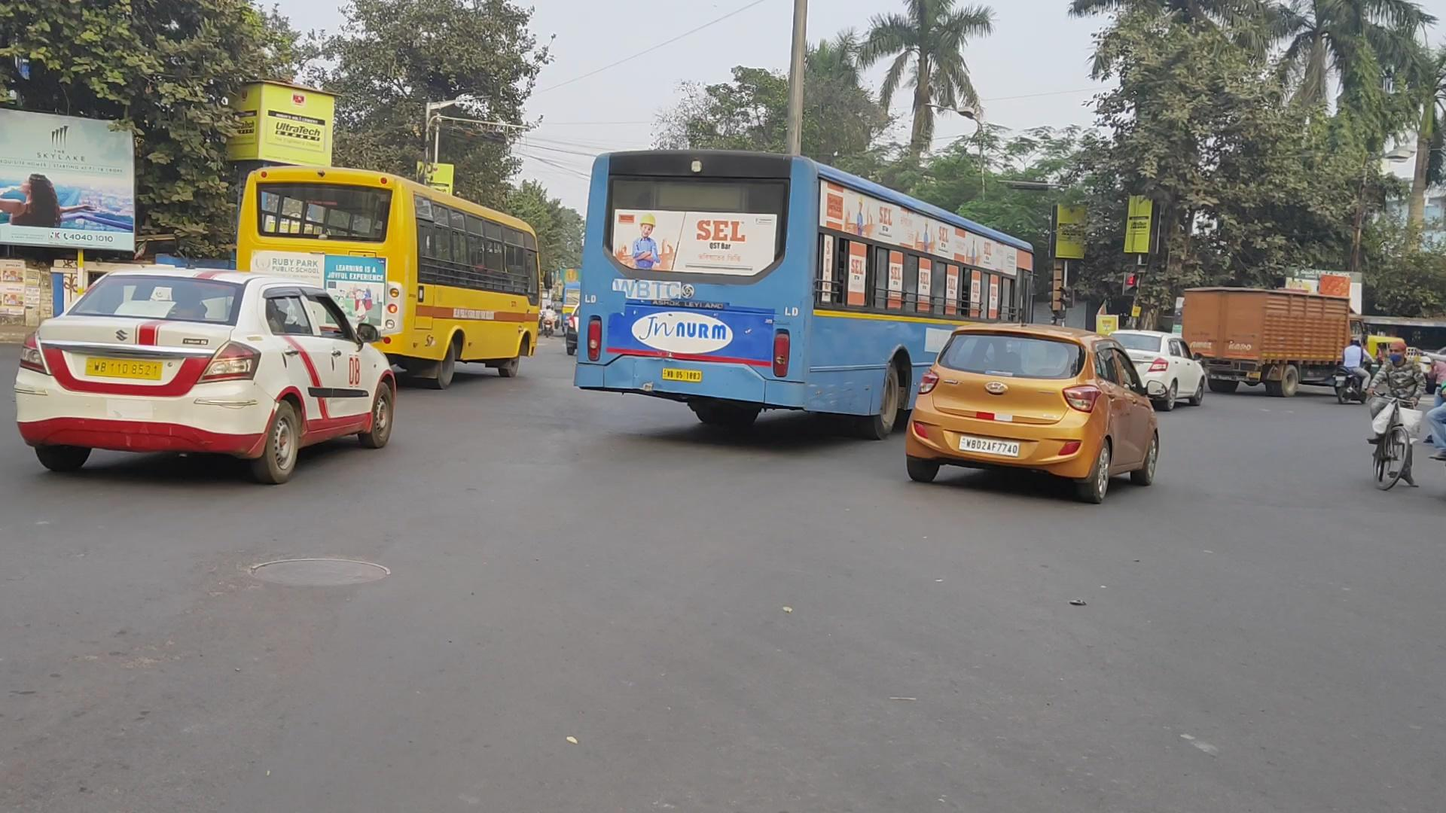Bus: (573, 149, 1037, 441), (235, 164, 542, 389)
bike: (1370, 340, 1426, 491), (1334, 336, 1383, 406)
car: (14, 264, 395, 486), (905, 321, 1160, 506), (1106, 329, 1207, 413)
truck: (1182, 286, 1371, 399)
